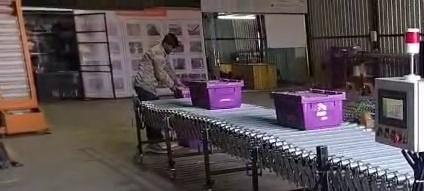box: (272, 89, 345, 129), (189, 80, 242, 109)
